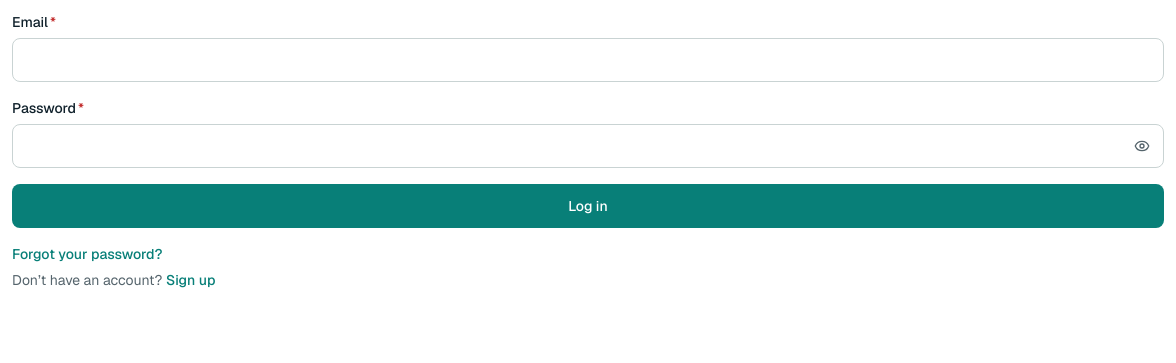
LoginForm › renders a safe, generic invalid-credentials message, never a raw Supabase string
In the field labelled "Email": (588, 60) left=12, top=38, right=1164, bottom=82, type "asha@example.com"
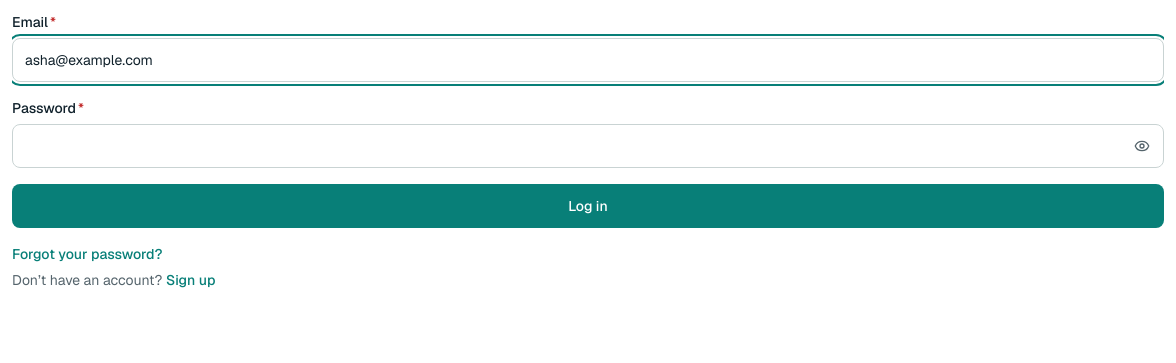
In the password field labelled "Password": (588, 146) left=12, top=124, right=1164, bottom=168, type "wrong-password"
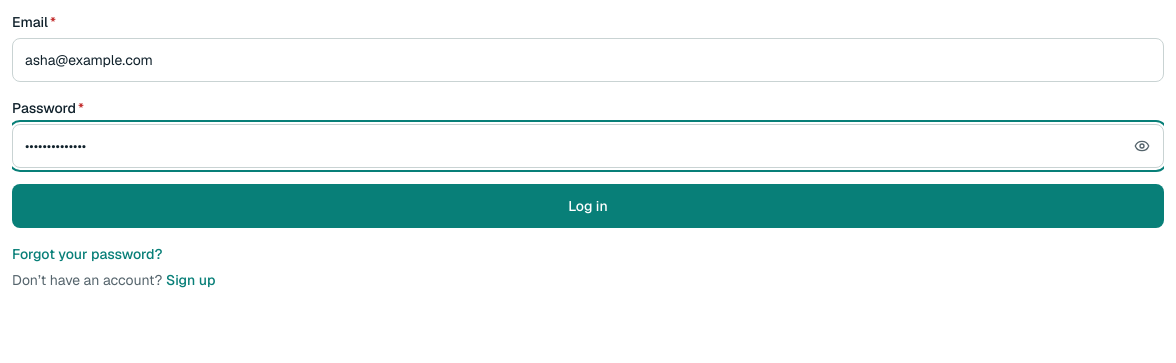
Click the button "Log in": (588, 206) left=12, top=184, right=1164, bottom=228
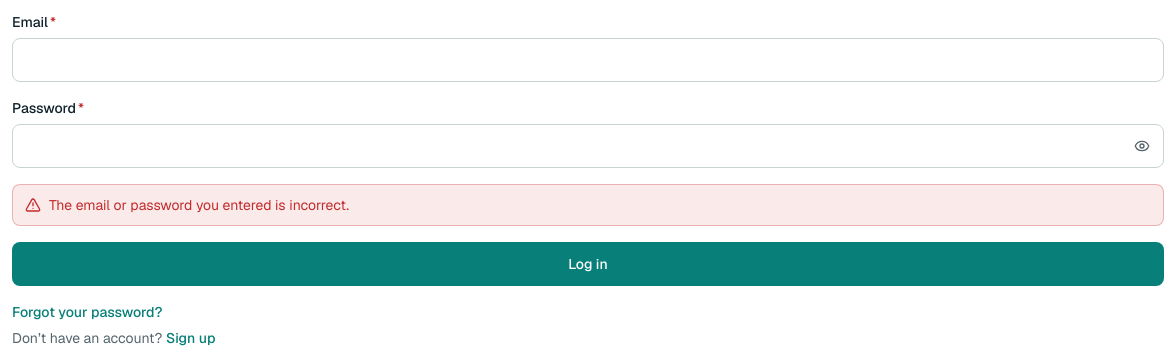
Result: the message reads "The email or password you entered is incorrect." at left=49, top=196, right=349, bottom=214
